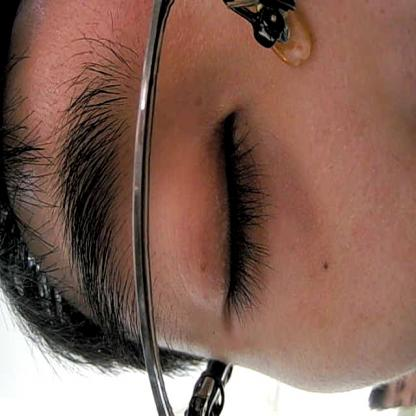Close: (186, 98, 272, 338)
